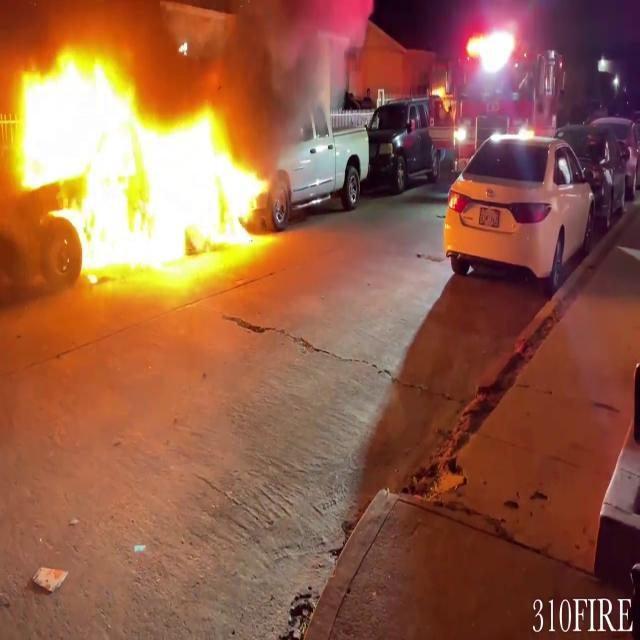Fire: (5, 38, 274, 282)
